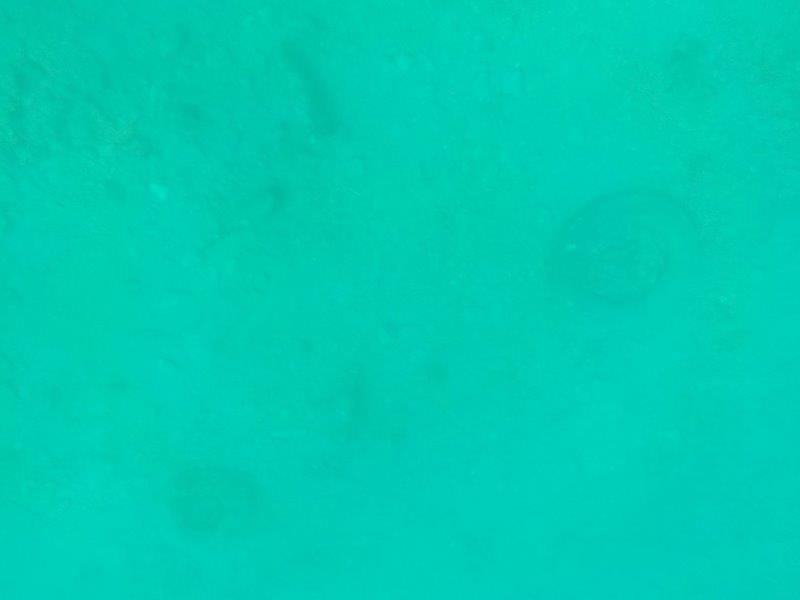tire: (542, 183, 715, 355), (148, 454, 266, 571)
